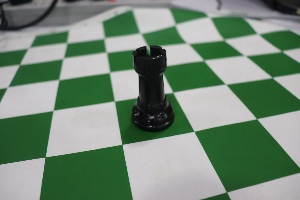black_rook: (113, 31, 180, 135)
